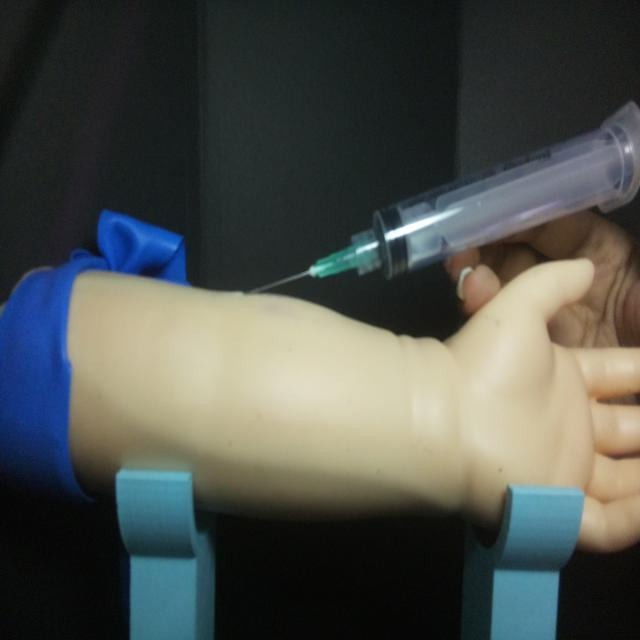18deg: (244, 101, 640, 295)
